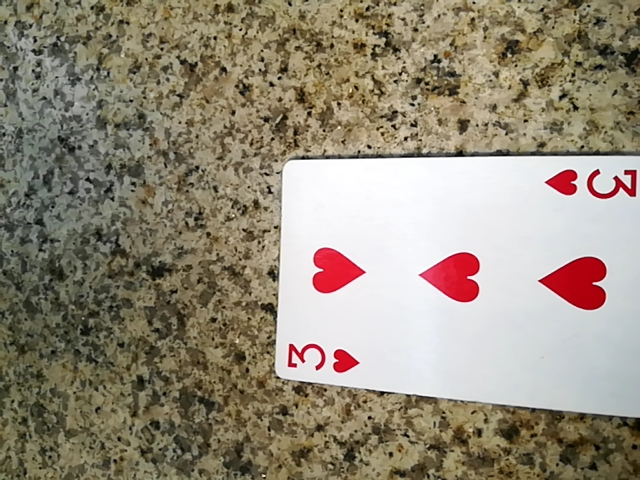hx 3: (270, 154, 639, 425)
